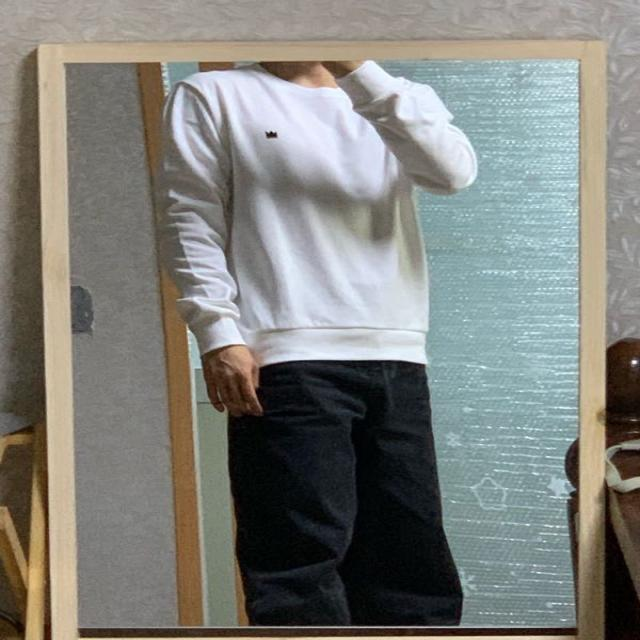denimpants: (227, 351, 462, 622)
mtm: (163, 59, 477, 362)
